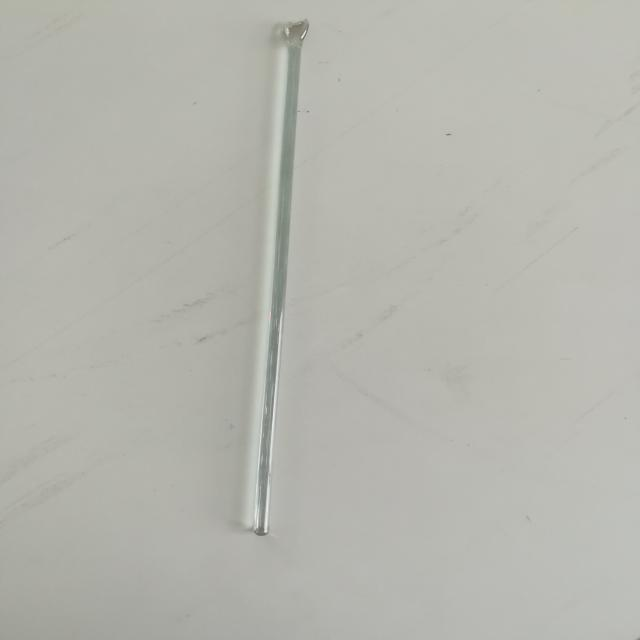Glass_Rod: (205, 0, 352, 559)
